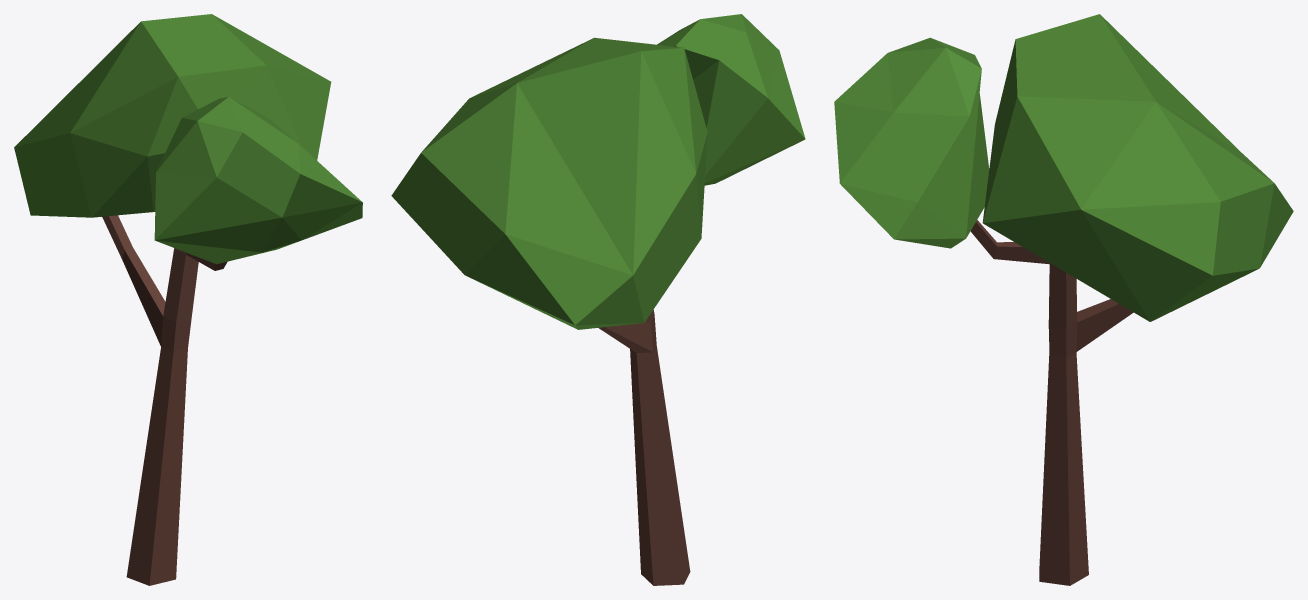
Rendered from Tree.fbx.
3 views of the same model, side by side, from view 1: azimuth 30°, elevation 25°; view 2: azimuth 150°, elevation 25°; view 3: azimuth 270°, elevation 25° (orthographic). The views are drawn at different scales.
Visible parts, largest first — view 1: tree2; view 2: tree2; view 3: tree2.
Part boxes in pixels (<box>): tree2: <box>14,14,362,585</box>; tree2: <box>391,14,805,585</box>; tree2: <box>834,14,1293,585</box>.
Bounding box in the file's own units: 138 × 261 × 193.
